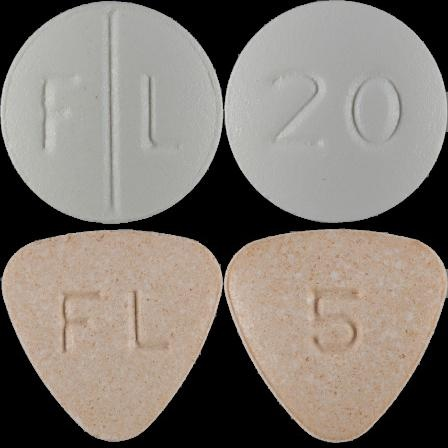55154-4620: (0, 0, 224, 224)
